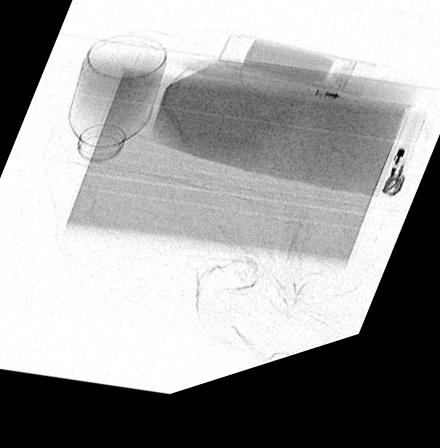Lighter: (380, 135, 429, 222)
